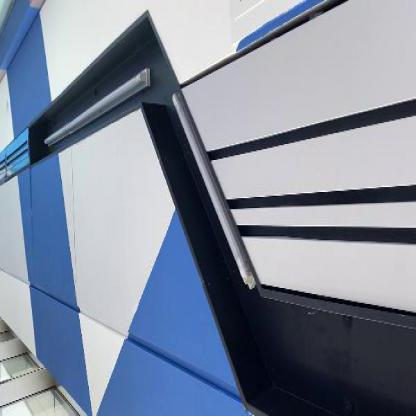light_off: (169, 77, 262, 296), (40, 54, 154, 178)
